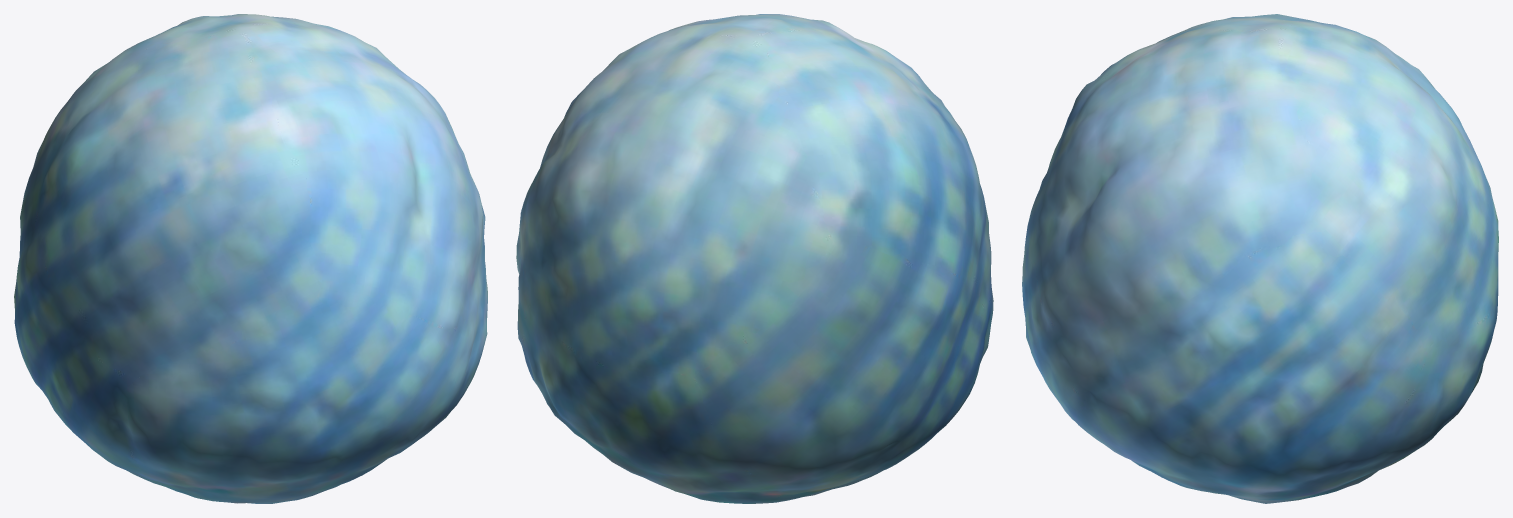
The model's file is lightbluegumball.fbx.
3 renders of one model, left to right at view 1: azimuth 30°, elevation 25°; view 2: azimuth 150°, elevation 25°; view 3: azimuth 270°, elevation 25°, orthographic.
Visible parts, largest first — view 1: Mesh1; view 2: Mesh1; view 3: Mesh1.
Boxes of the visible parts, <box> form: Mesh1: <box>14,14,487,503</box>; Mesh1: <box>516,14,993,503</box>; Mesh1: <box>1022,14,1498,503</box>.
Bounding box in the file's own units: 113 × 120 × 114.
1 material, 1 textured.
